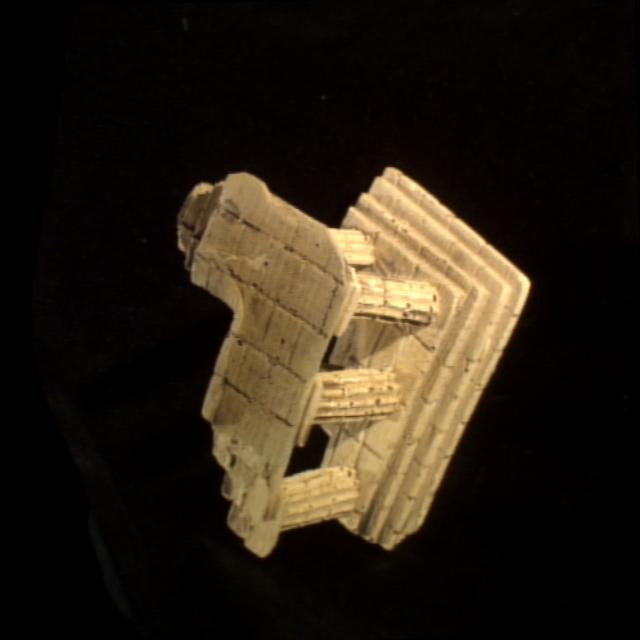Instance-Segmentation: (179, 168, 528, 556)
